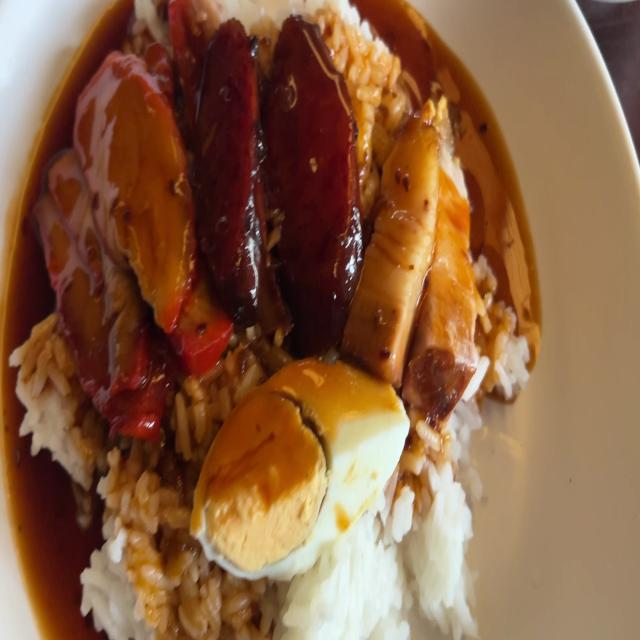01boiled_egg: (197, 352, 409, 569)
01chainese_sausage: (194, 24, 359, 318), (260, 18, 352, 318), (194, 25, 264, 298)
01crispy_pork: (358, 84, 476, 396), (361, 106, 434, 358), (423, 109, 467, 375)
01red_pork: (40, 56, 211, 427), (44, 149, 215, 425), (76, 49, 191, 308), (181, 286, 231, 369)
01red_pork_and_crispy_pork: (4, 0, 525, 640)
01rice: (85, 436, 194, 634), (168, 0, 398, 89), (411, 406, 494, 640), (295, 523, 416, 637), (19, 322, 88, 478), (476, 261, 531, 411)
